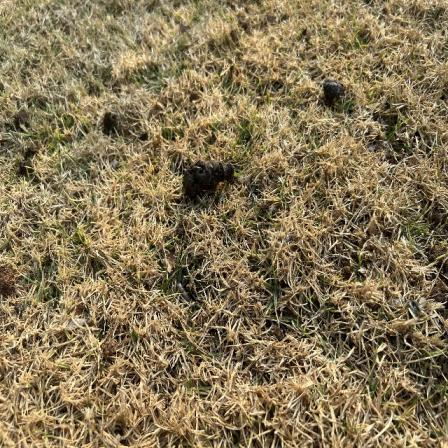dog-poop: (182, 152, 246, 196), (304, 74, 352, 106)
